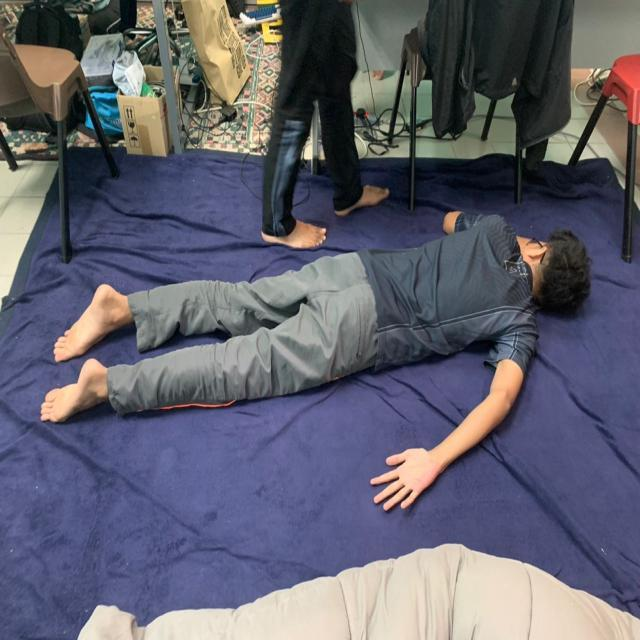fall: (39, 206, 584, 512)
